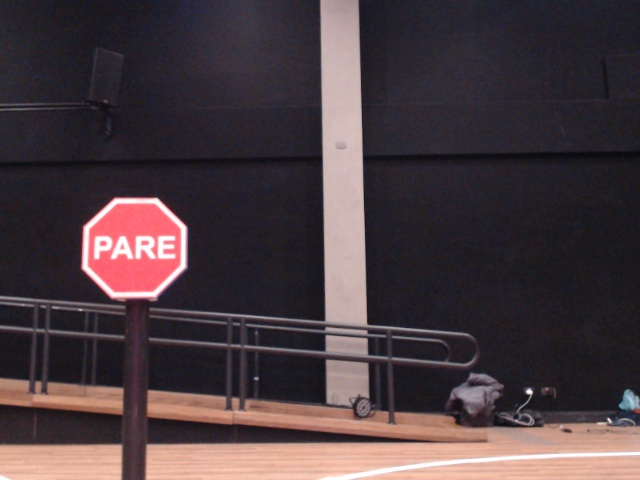SEMAFORO: (72, 189, 210, 316)
